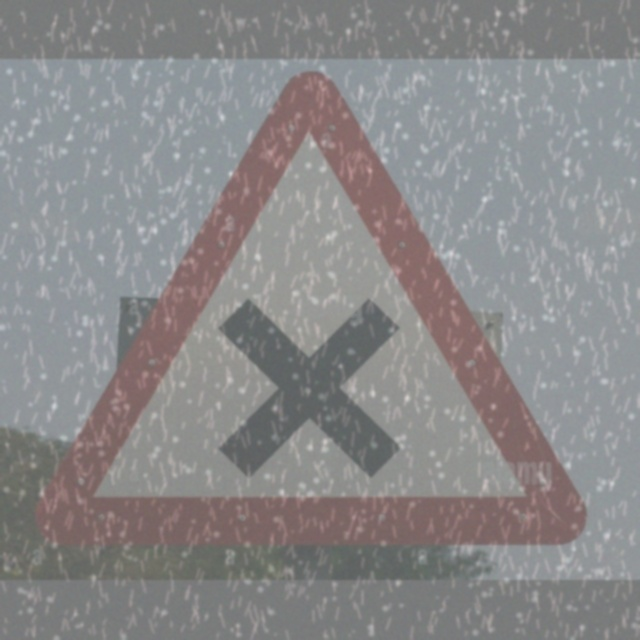Cross_Road: (79, 77, 587, 548)
